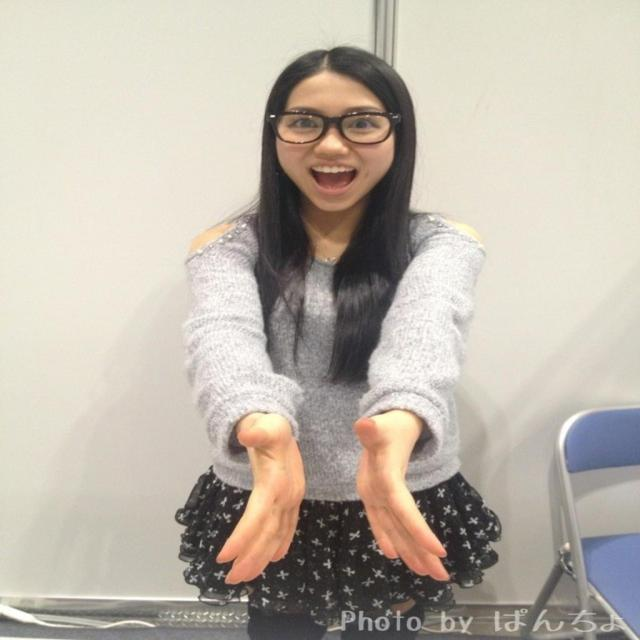Face: (270, 61, 422, 226)
